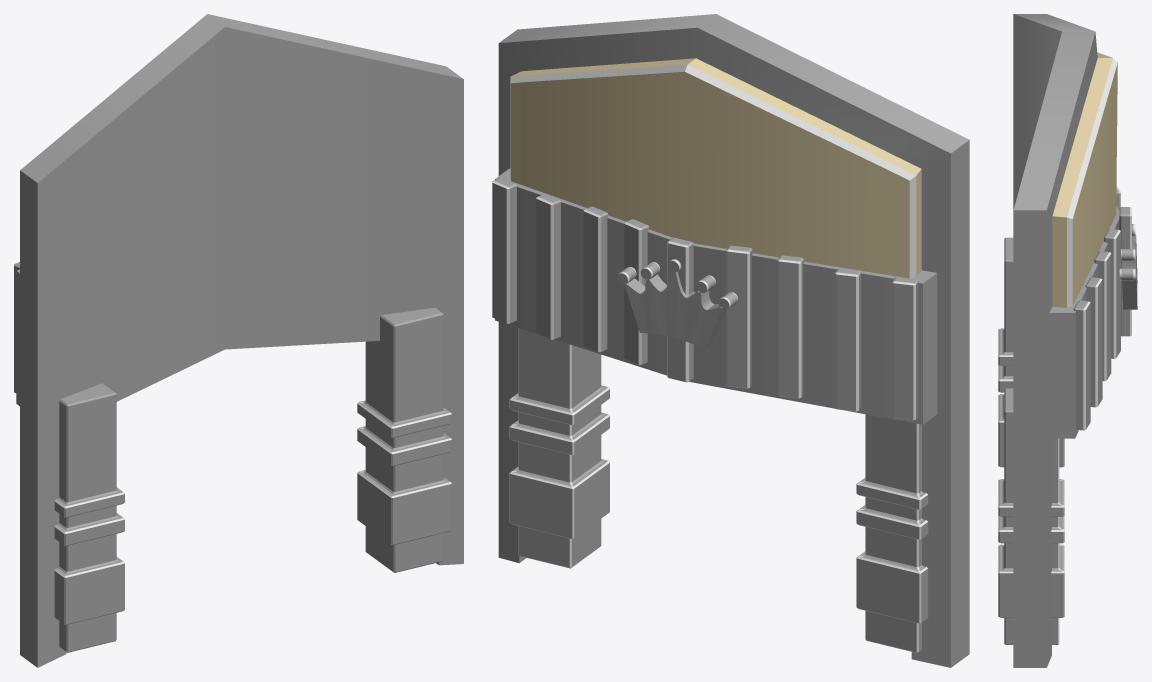
File: VIPBowlingParts.fbx
The picture shows the model from 3 angles, left to right: view 1: azimuth 30°, elevation 25°; view 2: azimuth 150°, elevation 25°; view 3: azimuth 270°, elevation 25°; orthographic projection. The views are drawn at different scales.
Visible parts, largest first — view 1: pCube12, pCube11; view 2: pCube12, pCube11, pCube8, pCube1, VIPbowlingParts_pPlane1; view 3: pCube12, pCube11, pCube8, pCube1, VIPbowlingParts_pPlane1.
Boxes of the visible parts, x1,y1,x2,y2 form: pCube12: (20,14,463,667); pCube11: (54,307,451,652); pCube12: (498,14,969,667); pCube11: (509,328,928,653); pCube8: (492,178,918,420); pCube1: (495,168,937,424); VIPbowlingParts_pPlane1: (617,259,737,348); pCube12: (1013,14,1117,667); pCube11: (998,237,1064,644); pCube8: (1073,186,1131,430); pCube1: (1049,206,1119,438); VIPbowlingParts_pPlane1: (1119,224,1137,309).
Bounding box in the file's own units: 694 × 887 × 208.
